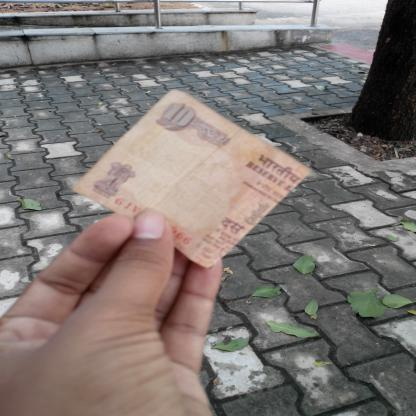Old10Front: (72, 89, 312, 270)
